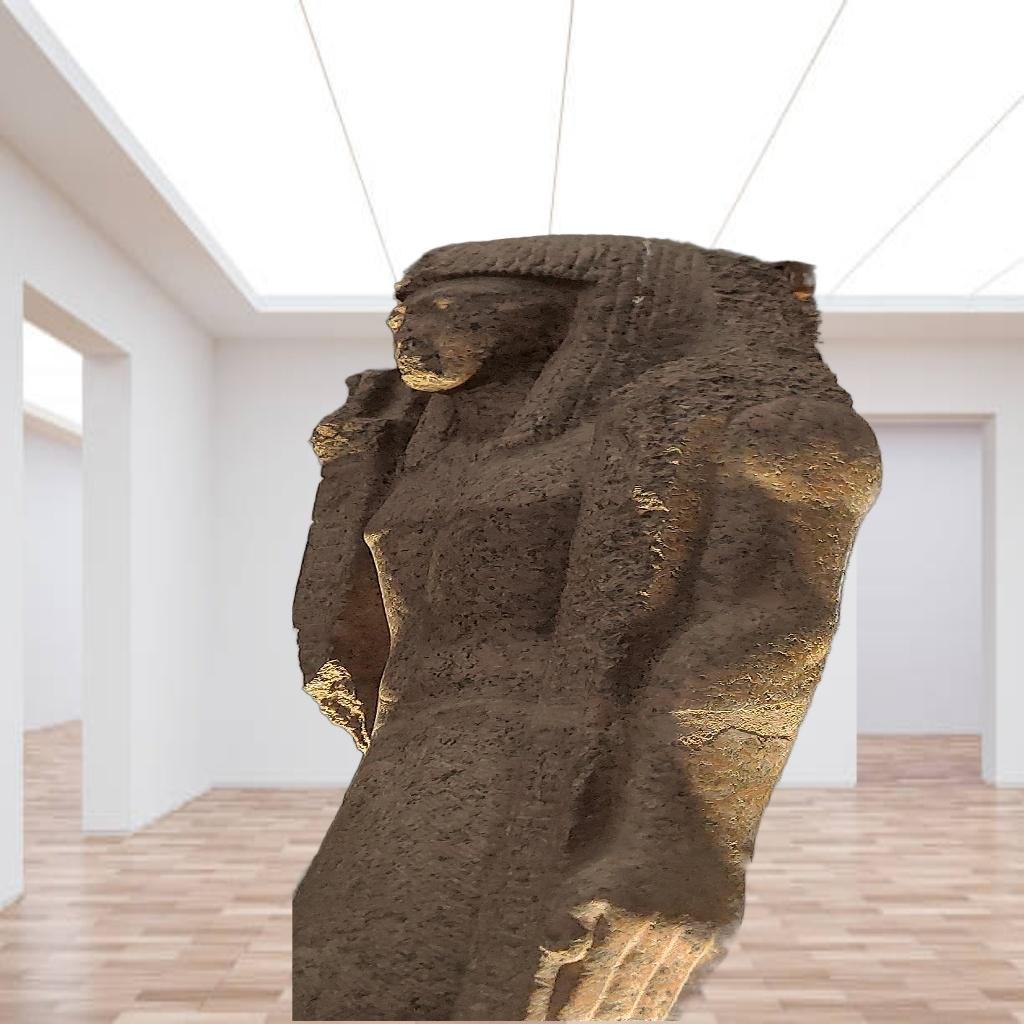Statue of Merenptah as standard Bearer: (293, 231, 966, 1021)
